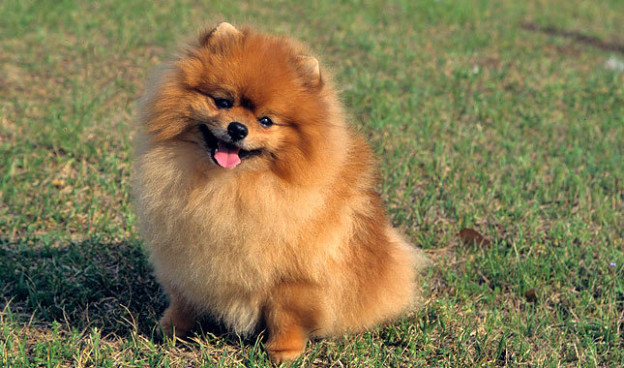pomeranian: (116, 16, 438, 362)
